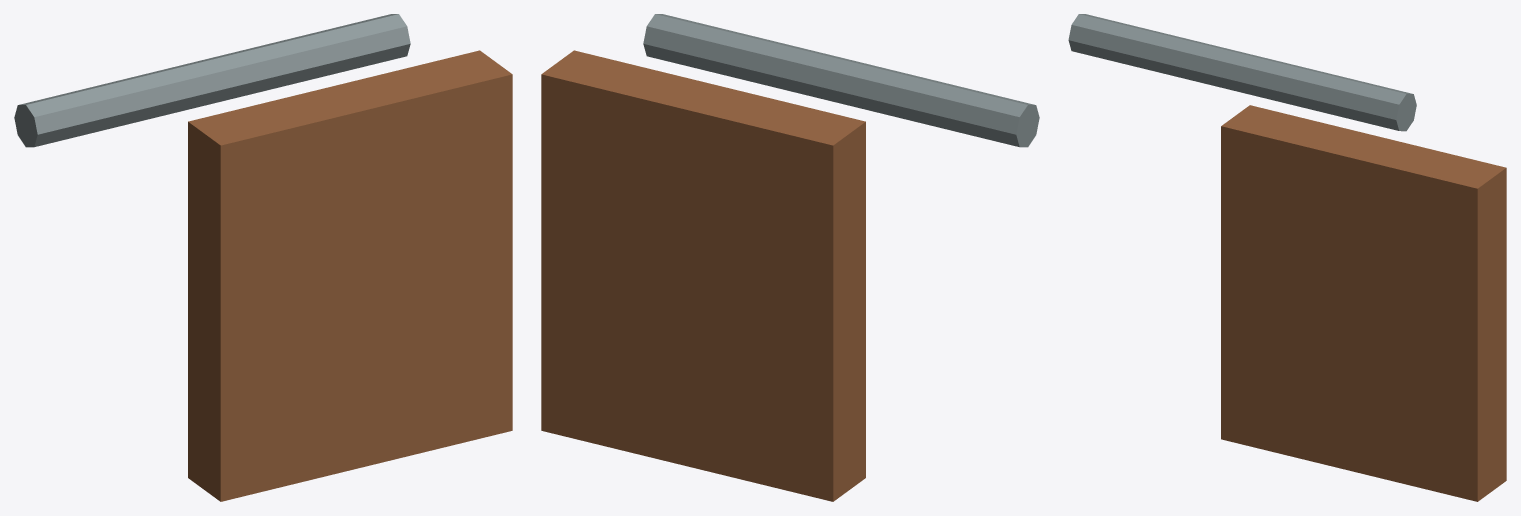
File: wk_facade_sign_v01.glb
3 views of the same model, side by side, from view 1: azimuth 30°, elevation 25°; view 2: azimuth 150°, elevation 25°; view 3: azimuth 330°, elevation 25° (orthographic). The views are drawn at different scales.
Visible parts, largest first — view 1: GEO_SignBoard, GEO_SignArm; view 2: GEO_SignBoard, GEO_SignArm; view 3: GEO_SignBoard, GEO_SignArm.
Part boxes in pixels (bbox=[...]): GEO_SignBoard: bbox=[188, 50, 512, 501]; GEO_SignArm: bbox=[14, 14, 410, 147]; GEO_SignBoard: bbox=[541, 50, 865, 501]; GEO_SignArm: bbox=[643, 14, 1039, 147]; GEO_SignBoard: bbox=[1221, 105, 1506, 501]; GEO_SignArm: bbox=[1068, 14, 1416, 131].
Size of the model in its own units: 0.58 by 0.505 by 0.07.
